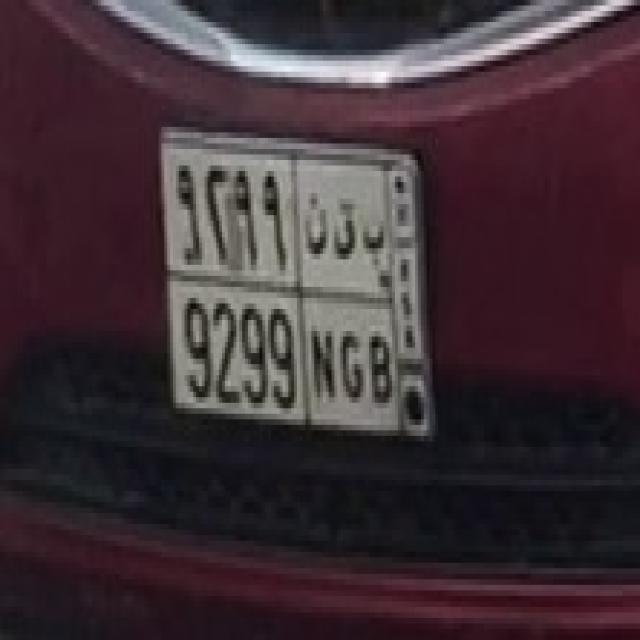Car-plate: (152, 118, 459, 454)
